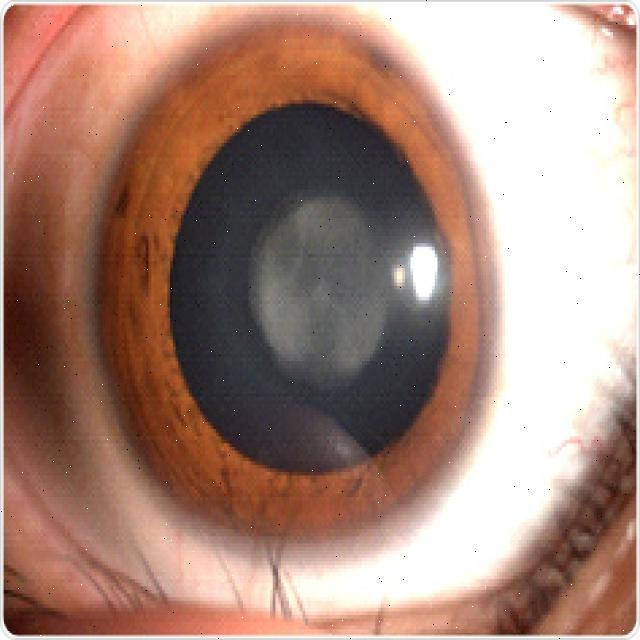Cataract: (92, 18, 504, 566)
